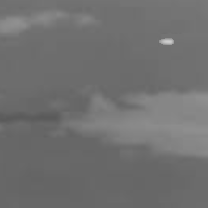Target: (158, 37, 175, 46)
